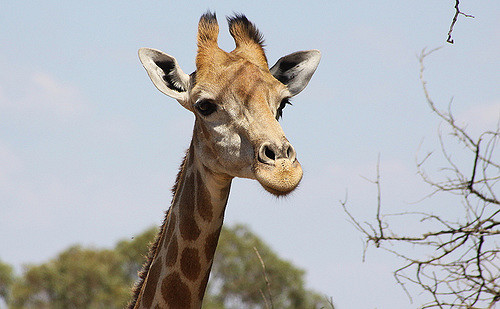giraffe: (114, 13, 343, 283)
